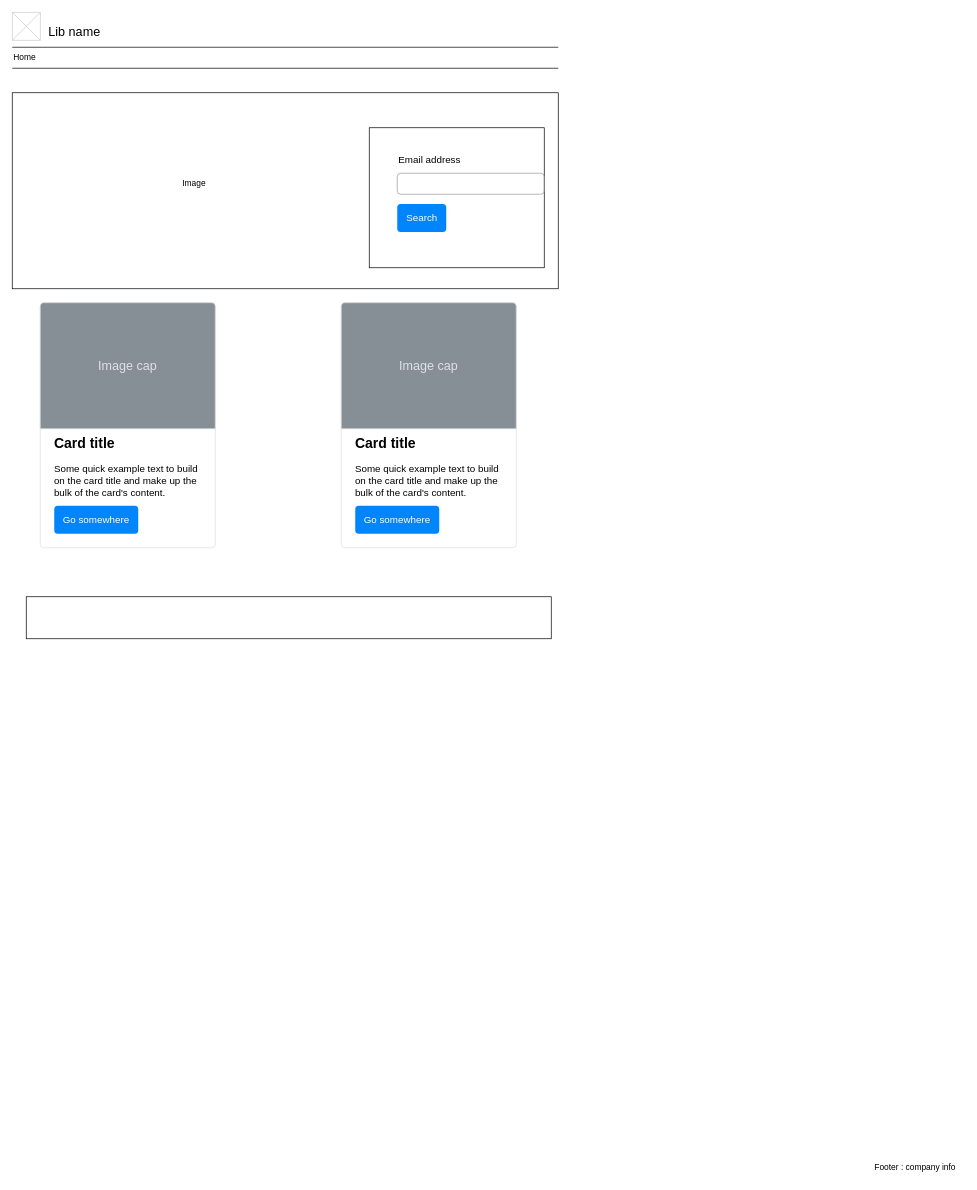
Some shapes in this 977 by 1190 pixel diagram are drawn without their labels. The shapes that lost their labels are listed below. From the top down, each one's centre as x and y in pixels, then its label:
(26,26): lib Logo
(288,617): Company info
